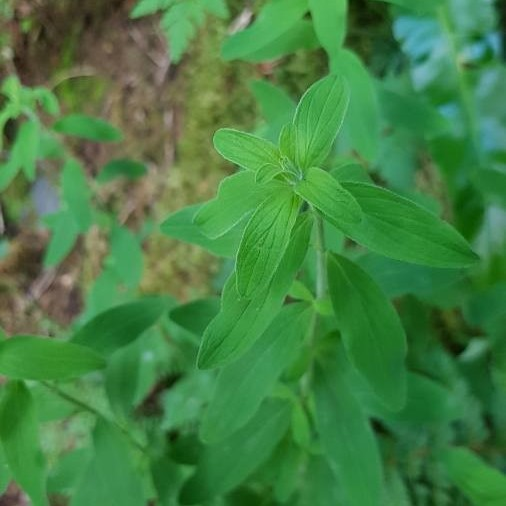obstacle: (174, 96, 468, 498)
